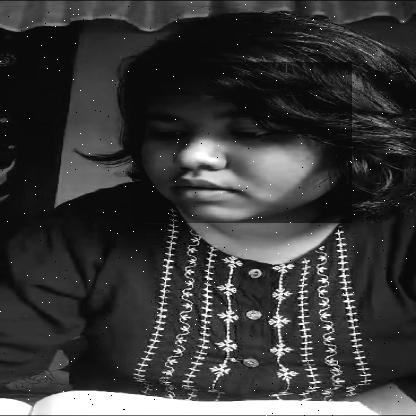Distracted: (132, 62, 352, 223)
